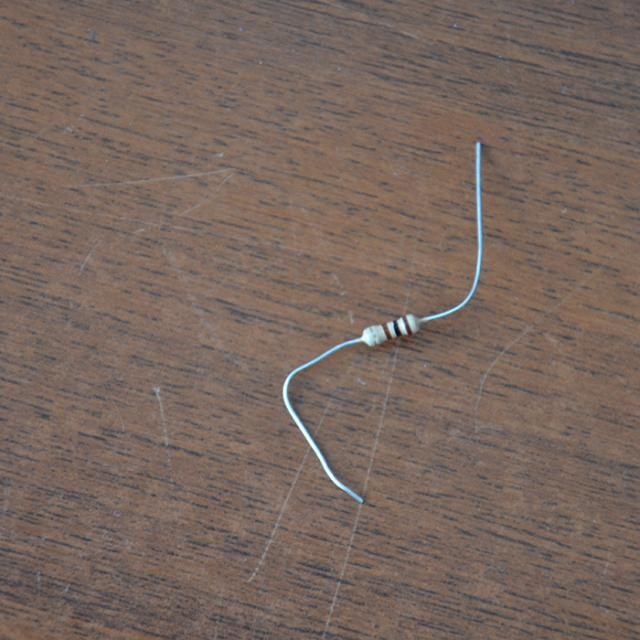Resistor Carbon-Film: (363, 313, 421, 350)
